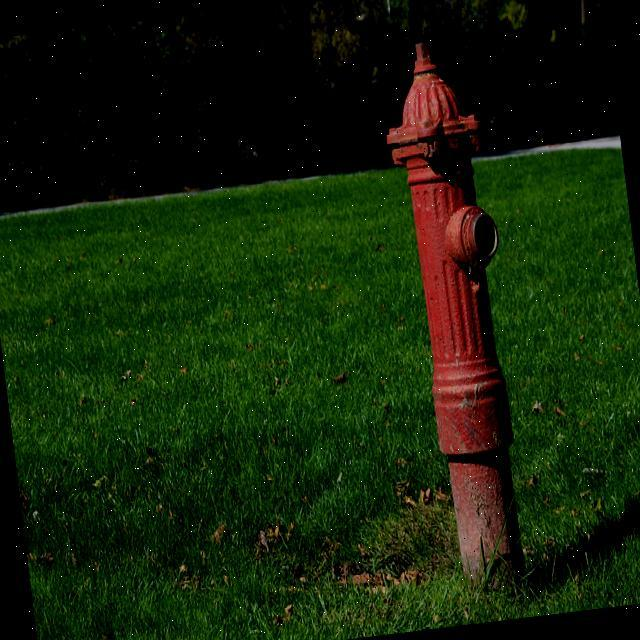fire_hydrant: (374, 32, 543, 604)
